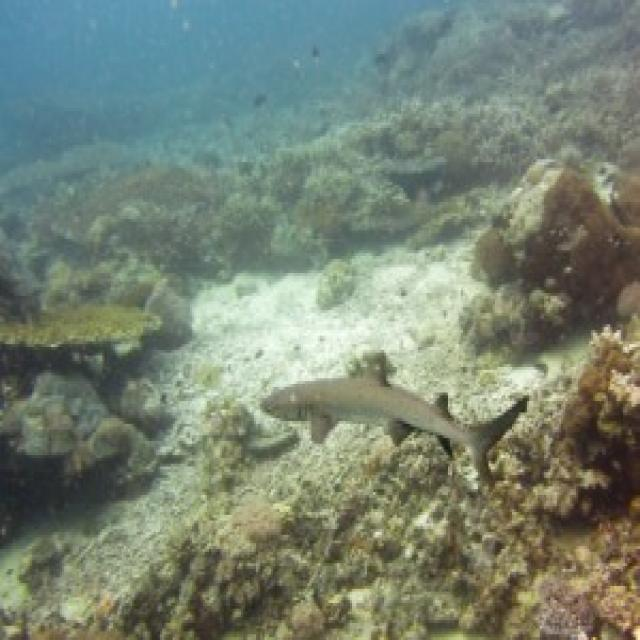Shark: (262, 352, 532, 493)
